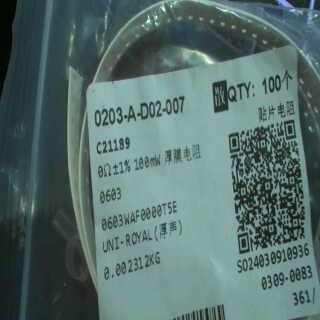0R: (97, 152, 161, 204)
